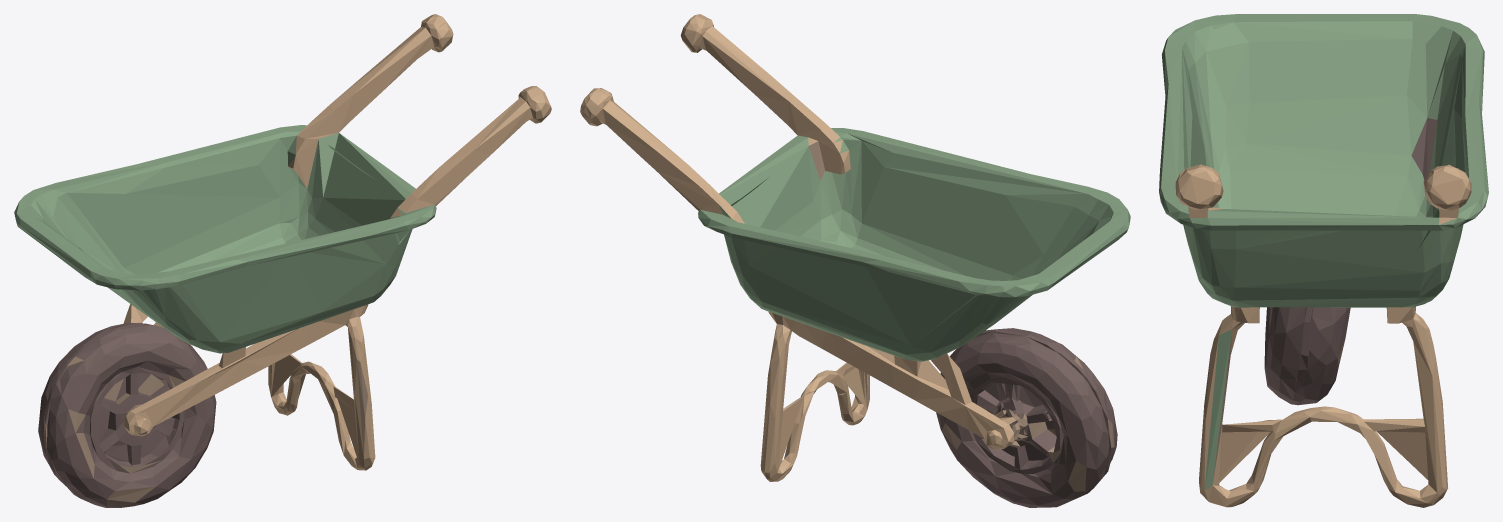
Rendered from wheelbarrow.glb.
The picture shows the model from 3 angles, left to right: view 1: azimuth 30°, elevation 25°; view 2: azimuth 150°, elevation 25°; view 3: azimuth 270°, elevation 25°; orthographic projection. The views are drawn at different scales.
Parts seen in each view (by area): view 1: geometry_0; view 2: geometry_0; view 3: geometry_0.
Boxes of the visible parts, <box> form: geometry_0: <box>14,14,551,507</box>; geometry_0: <box>580,14,1130,507</box>; geometry_0: <box>1159,14,1488,507</box>.
Bounding box in the file's own units: 1.15 × 0.85 × 0.5635.
